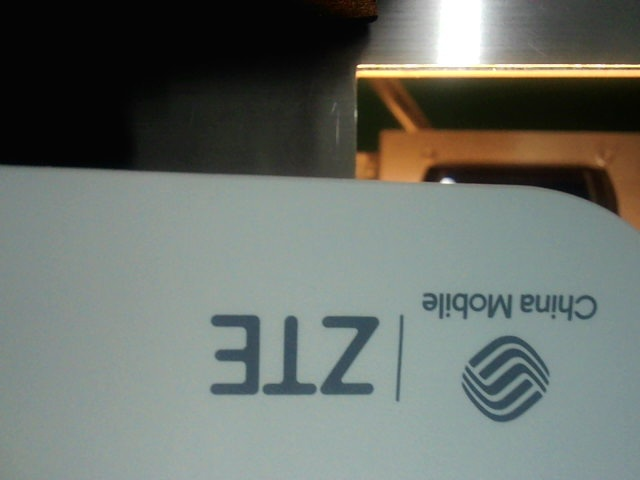AL_ZTEChinaMobile: (201, 283, 604, 430)
